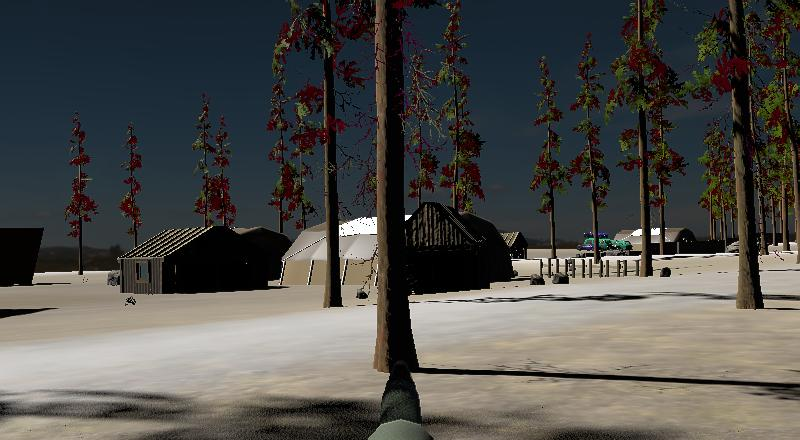House: (120, 225, 291, 294), (395, 201, 488, 295), (502, 231, 529, 259)
car: (578, 237, 618, 255), (613, 239, 634, 253)
